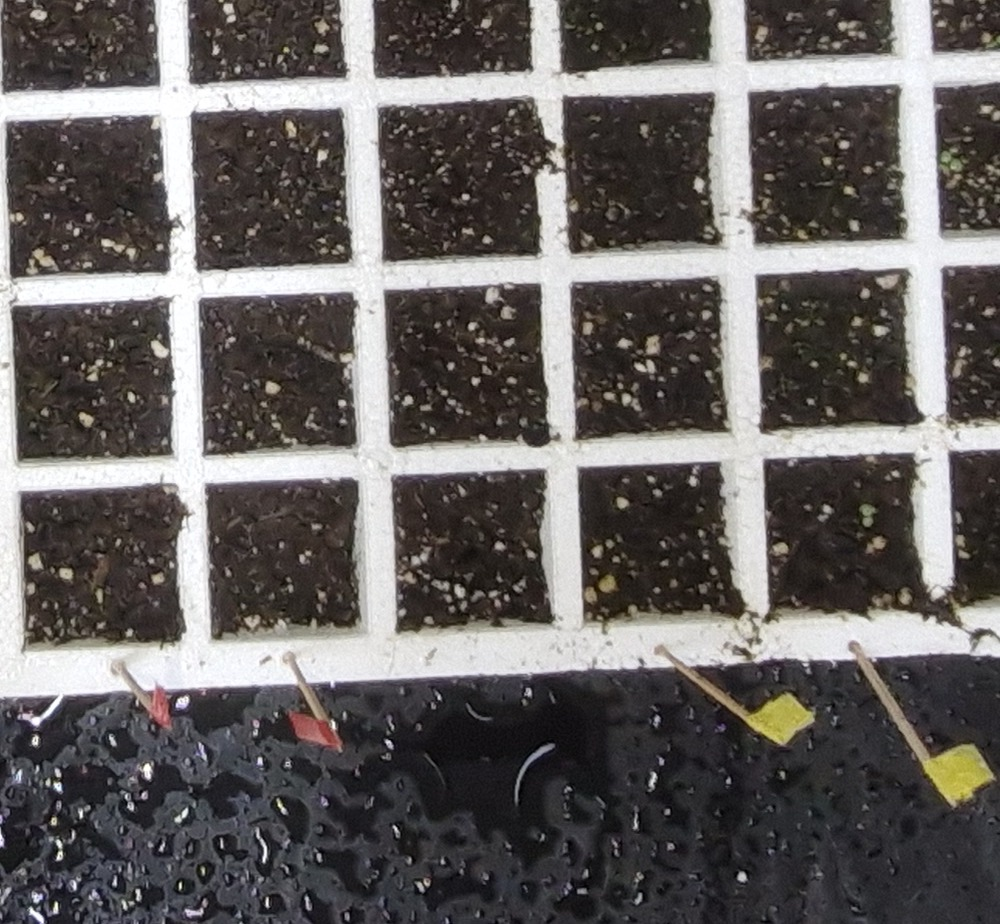Folha: (950, 158, 963, 171), (941, 151, 952, 162), (863, 517, 874, 527)
Germinacao: (941, 150, 964, 170), (861, 506, 877, 527)
